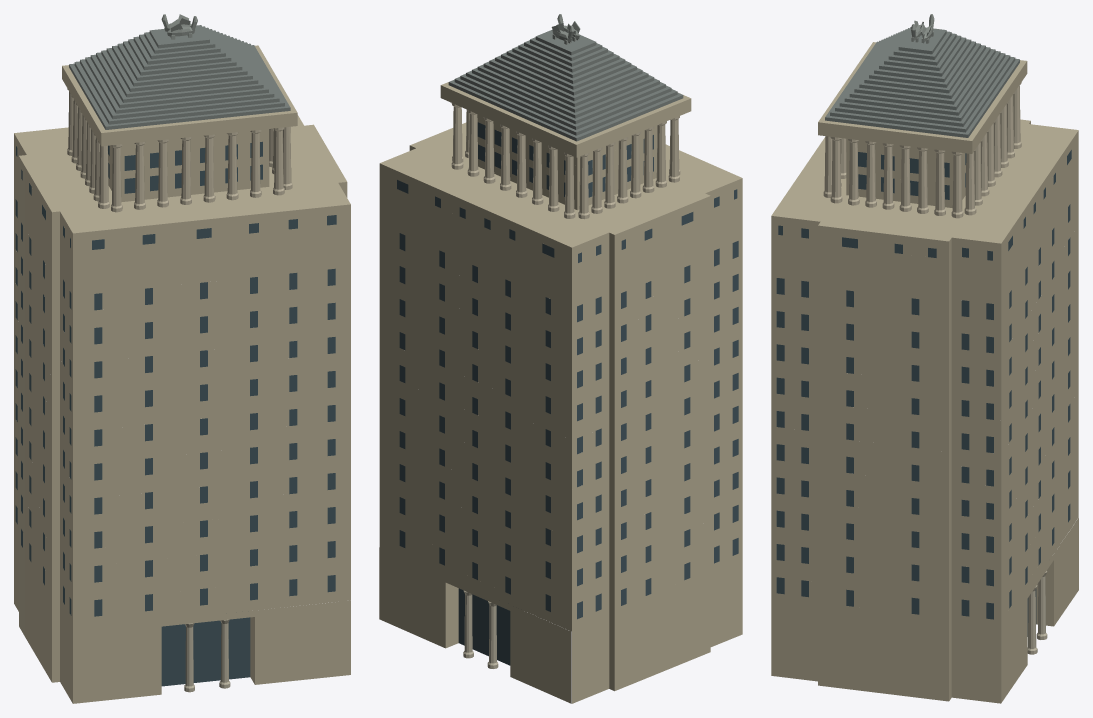
File: civil-courts-building-st-louis-far.glb
3 views of the same model, side by side, from view 1: azimuth 30°, elevation 25°; view 2: azimuth 150°, elevation 25°; view 3: azimuth 270°, elevation 25° (orthographic). The views are drawn at different scales.
Visible parts, largest first — view 1: civil-courts-building-st-louis-0-stone, civil-courts-building-st-louis-0-glass, civil-courts-building-st-louis-0-roof, civil-courts-building-st-louis-0-column, civil-courts-building-st-louis-0-baseColumn, civil-courts-building-st-louis-0-metal; view 2: civil-courts-building-st-louis-0-stone, civil-courts-building-st-louis-0-glass, civil-courts-building-st-louis-0-roof, civil-courts-building-st-louis-0-column, civil-courts-building-st-louis-0-baseColumn; view 3: civil-courts-building-st-louis-0-stone, civil-courts-building-st-louis-0-roof, civil-courts-building-st-louis-0-glass, civil-courts-building-st-louis-0-column, civil-courts-building-st-louis-0-baseColumn.
Part boxes in pixels (<box>): civil-courts-building-st-louis-0-stone: <box>14,45,350,703</box>; civil-courts-building-st-louis-0-glass: <box>15,141,336,686</box>; civil-courts-building-st-louis-0-roof: <box>69,25,290,129</box>; civil-courts-building-st-louis-0-column: <box>67,88,292,212</box>; civil-courts-building-st-louis-0-baseColumn: <box>184,619,230,692</box>; civil-courts-building-st-louis-0-metal: <box>161,14,197,39</box>; civil-courts-building-st-louis-0-stone: <box>379,82,742,703</box>; civil-courts-building-st-louis-0-glass: <box>397,122,738,665</box>; civil-courts-building-st-louis-0-roof: <box>448,29,683,141</box>; civil-courts-building-st-louis-0-column: <box>451,103,680,219</box>; civil-courts-building-st-louis-0-baseColumn: <box>463,590,498,668</box>; civil-courts-building-st-louis-0-stone: <box>771,42,1078,703</box>; civil-courts-building-st-louis-0-roof: <box>825,27,1019,137</box>; civil-courts-building-st-louis-0-glass: <box>776,150,1071,636</box>; civil-courts-building-st-louis-0-column: <box>823,82,1021,218</box>; civil-courts-building-st-louis-0-baseColumn: <box>1027,571,1047,654</box>.
Size of the model in its own units: 58.51 by 118 by 53.65.
